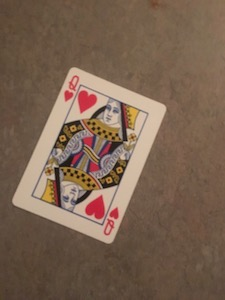QueenOfHearts: (10, 61, 169, 249)
